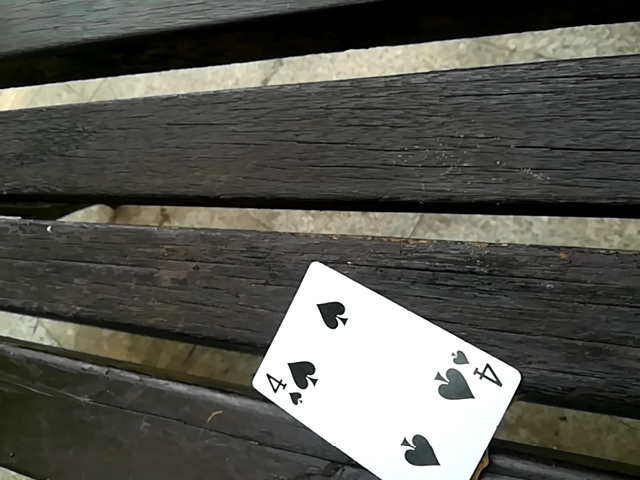ht 4: (238, 257, 524, 480)
